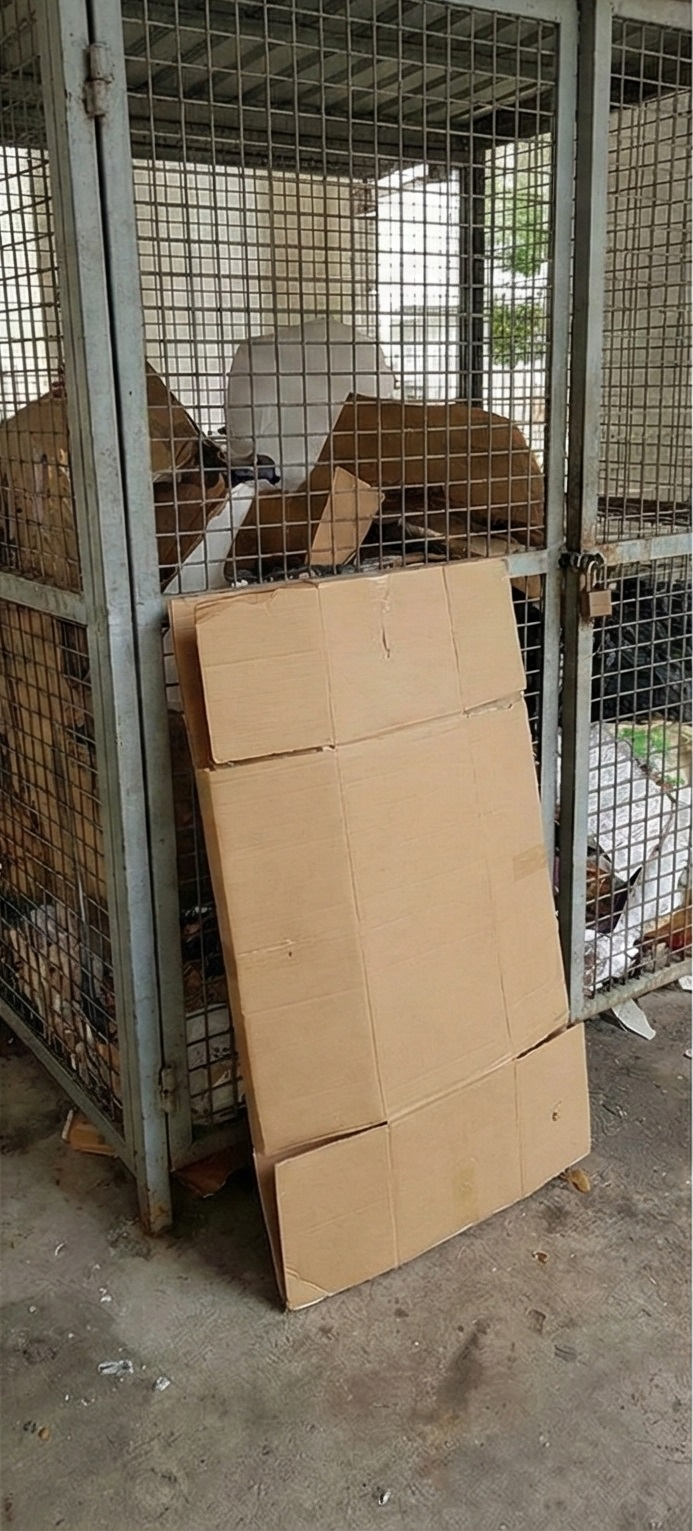bulk_waste: (171, 562, 589, 1309), (240, 397, 543, 576)
